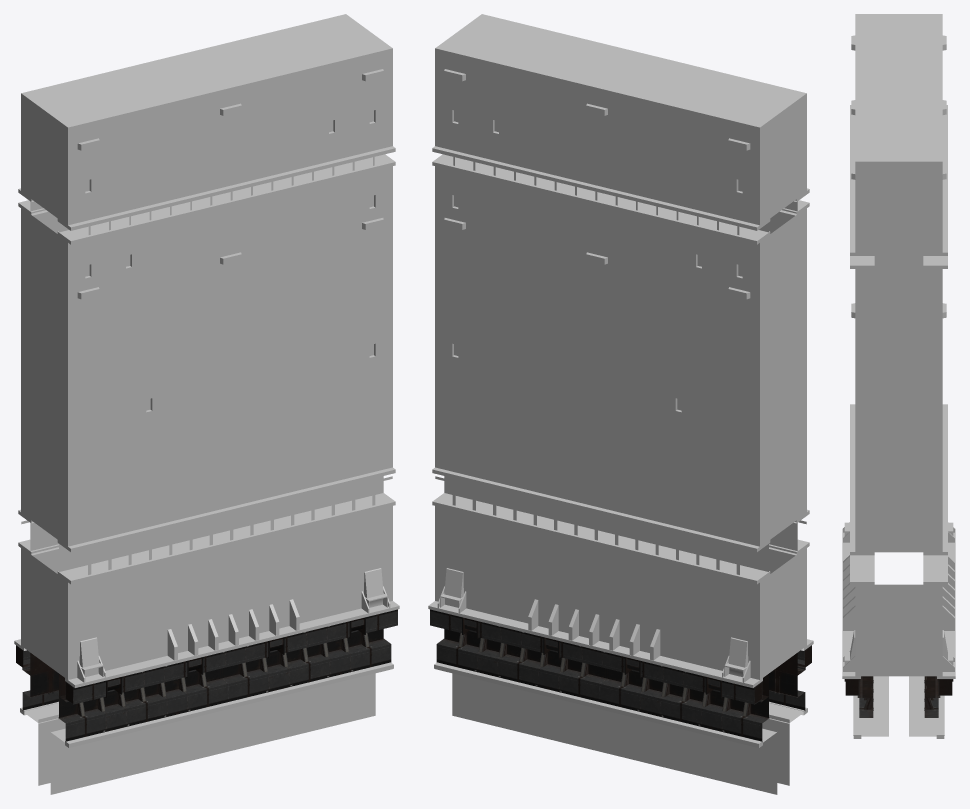
File: Wall_Large_08_phys.fbx
3 views of the same model, side by side, from view 1: azimuth 30°, elevation 25°; view 2: azimuth 150°, elevation 25°; view 3: azimuth 270°, elevation 25° (orthographic). The views are drawn at different scales.
Parts seen in each view (by area): view 1: Wall_Large_08_phys; view 2: Wall_Large_08_phys; view 3: Wall_Large_08_phys.
Boxes of the visible parts, left/top/right/bottom form: Wall_Large_08_phys: left=14, top=14, right=399, bottom=794; Wall_Large_08_phys: left=428, top=14, right=813, bottom=794; Wall_Large_08_phys: left=842, top=14, right=955, bottom=738.
Bounding box in the file's own units: 1604 × 3200 × 518.
